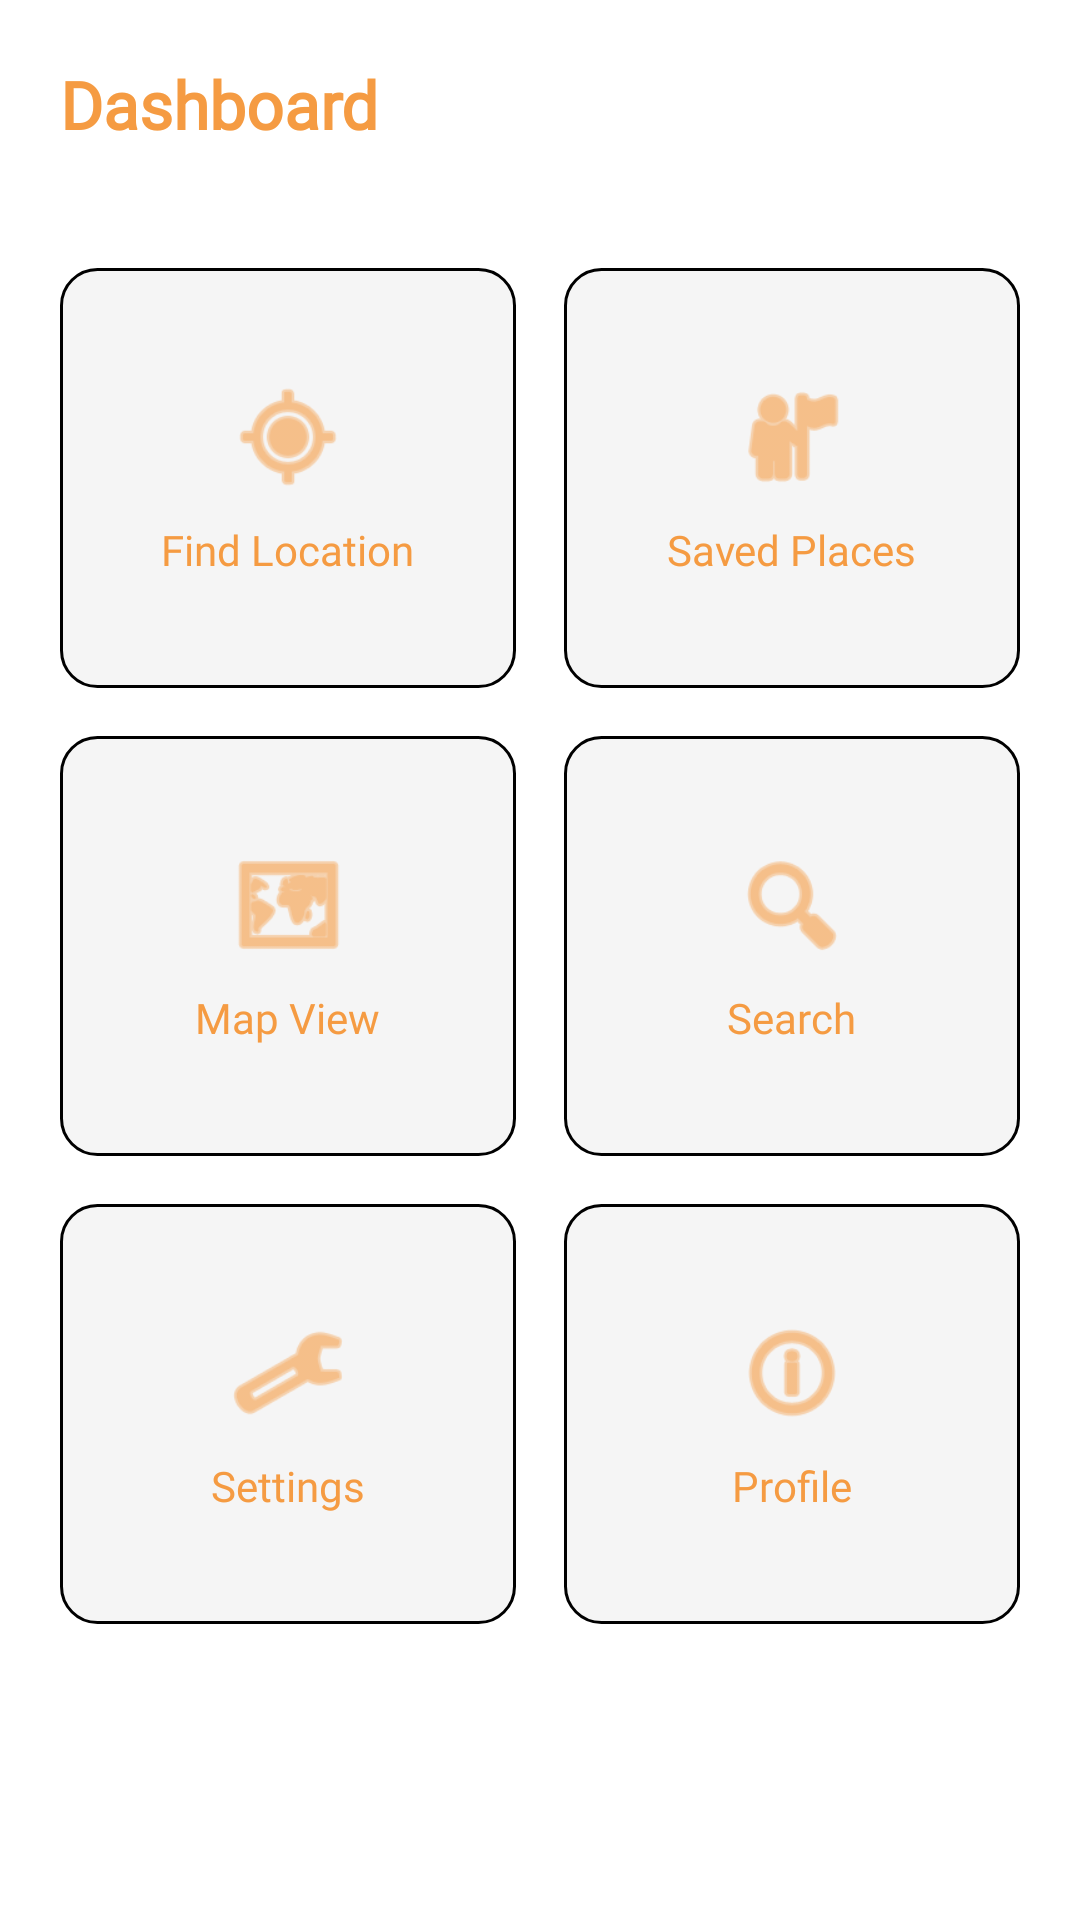

Screen size 1080px x 1920px. Icon name, then its box in pixels as bbox=[x1, y1, x2, y2]:
info details: bbox=[749, 1330, 835, 1416]
mapmode: bbox=[239, 861, 339, 949]
mylocation: bbox=[240, 389, 336, 485]
myplaces: bbox=[748, 392, 838, 482]
